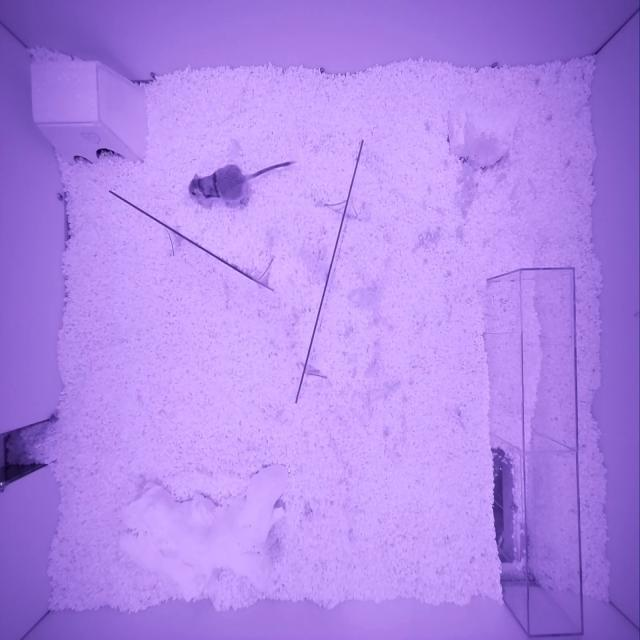adult_front: (188, 164, 249, 202)
